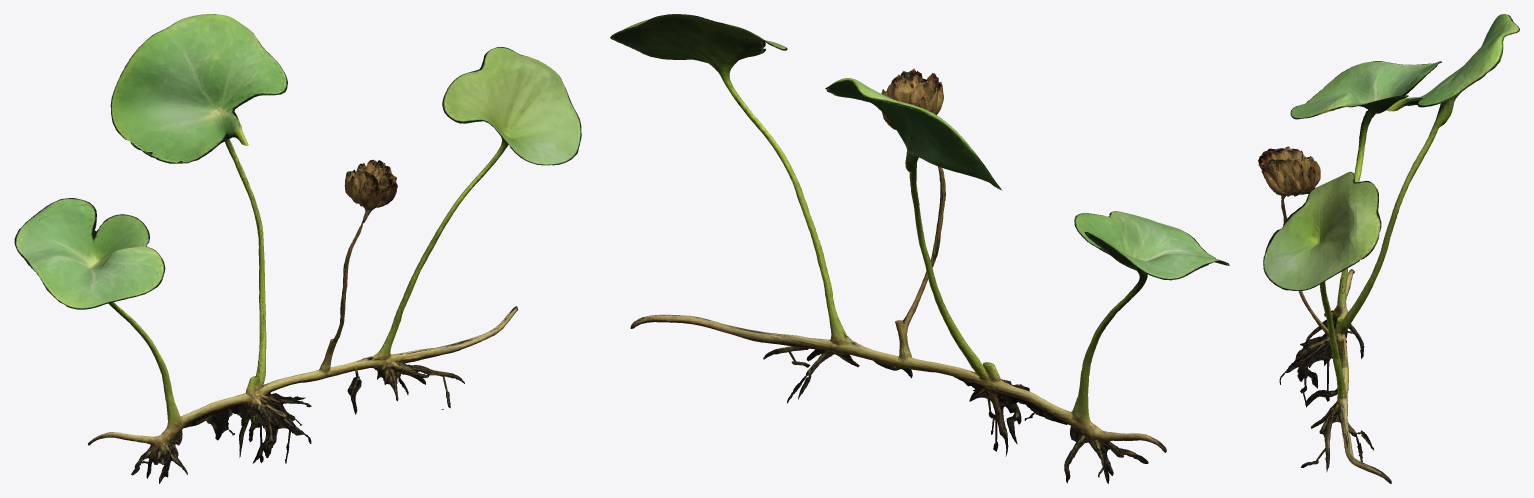
3 views of the same model, side by side, from view 1: azimuth 30°, elevation 25°; view 2: azimuth 150°, elevation 25°; view 3: azimuth 270°, elevation 25° (orthographic). The views are drawn at different scales.
Parts seen in each view (by area): view 1: world; view 2: world; view 3: world.
Part boxes in pixels (box(x1,y1,x2,y2)): world: box(14, 14, 581, 483); world: box(610, 14, 1229, 483); world: box(1258, 14, 1519, 483).
Size of the model in its own units: 0.22 by 0.1506 by 0.0927.
1 material, 1 textured.
